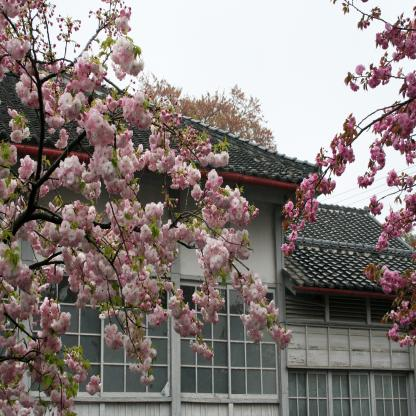YaeSakura: (0, 0, 291, 415), (280, 1, 416, 347), (134, 69, 282, 150)
